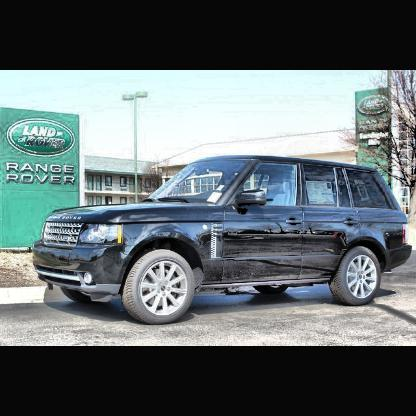Land Rover Range Rover SUV 2012: (35, 157, 413, 324)
